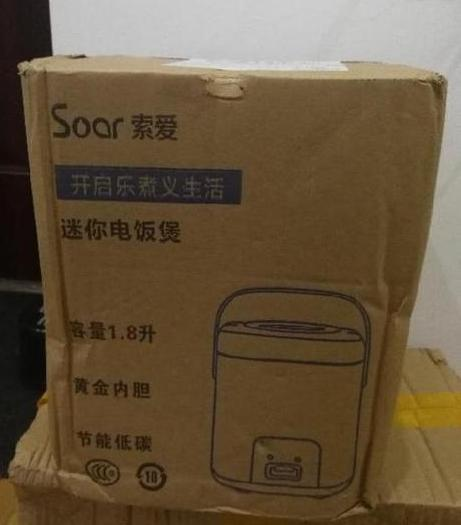cardboard: (22, 53, 459, 525)
